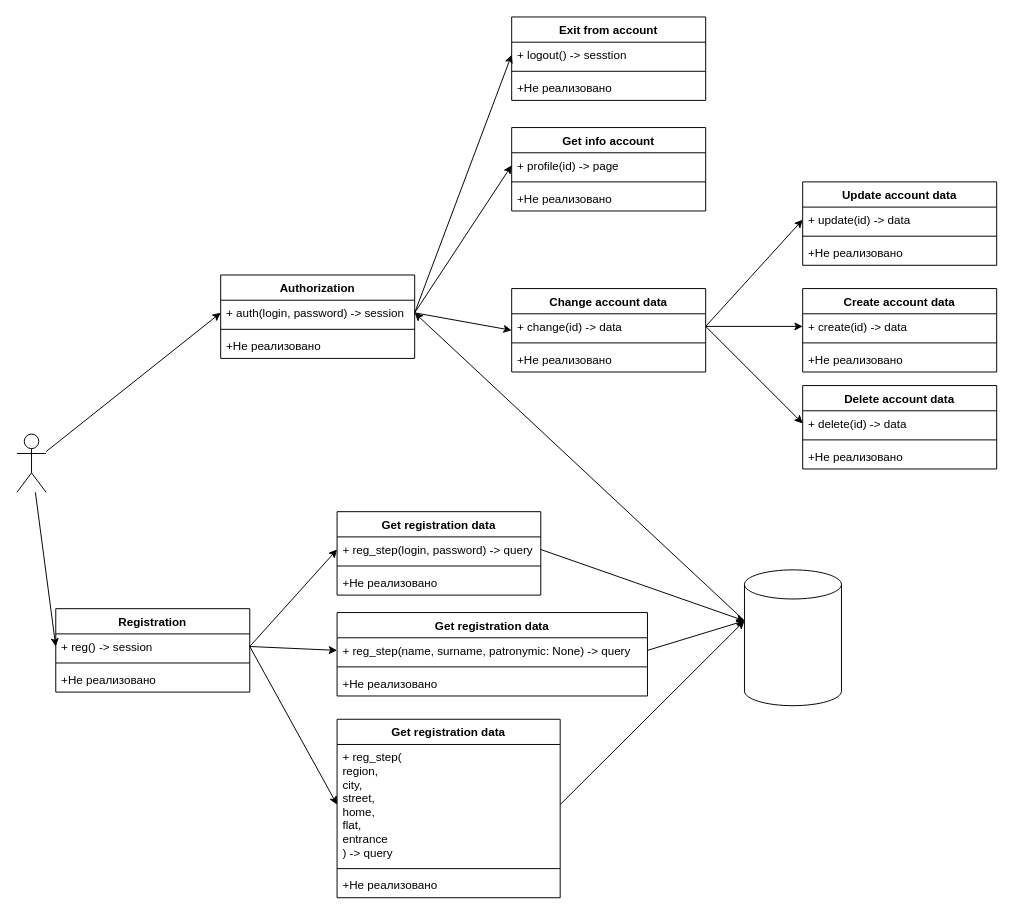
Image size: 1014x918. Some labels were removed from this diagram. Each missing label, with the centre of its shape:
"client" belongs at (x=31, y=462).
"DB" belongs at (x=792, y=637).
